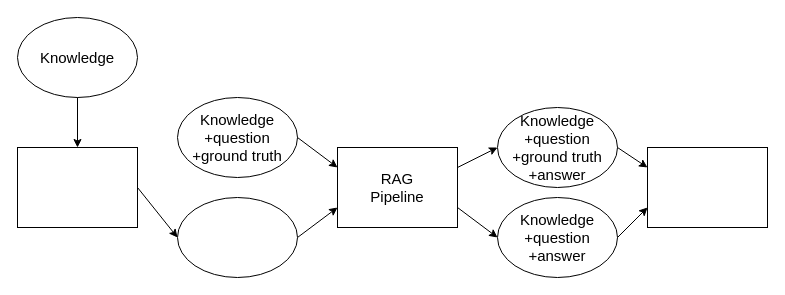
Some shapes in this 785 by 295 pixel diagram are drawn without their labels. Here are the shapes that lost their labels. From the top down, the centre of each, then its label:
At (77,187): "Data Process".
At (707,187): "RAG Evaluation".
At (237,237): "Knowledge +question".
